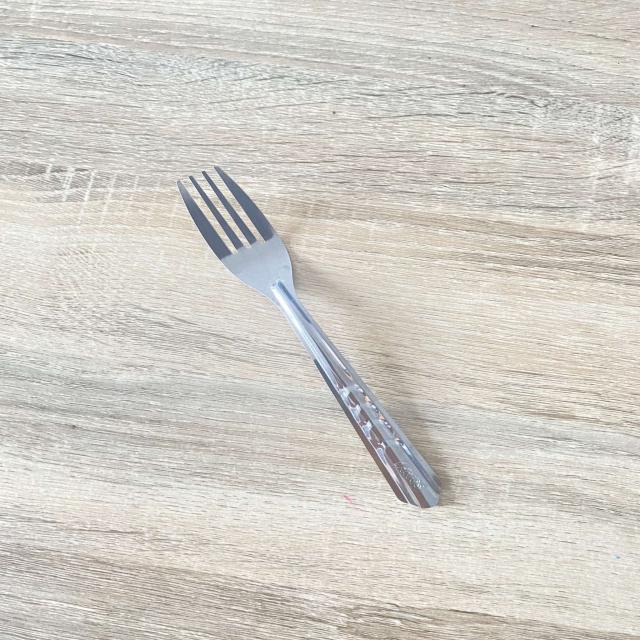fork: (145, 158, 482, 512)
